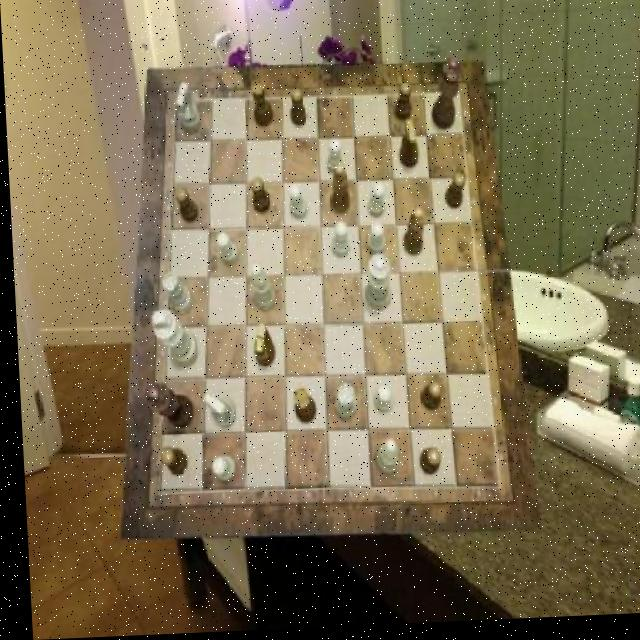bishop: (399, 212, 424, 260), (326, 165, 348, 217)
black-bishop: (139, 383, 188, 430)
black-king: (396, 124, 417, 173), (248, 325, 271, 368)
black-knight: (173, 189, 197, 226), (442, 177, 465, 213), (155, 448, 183, 476), (287, 91, 306, 130), (247, 180, 268, 215), (392, 86, 410, 125), (413, 452, 436, 480), (416, 385, 437, 415)
black-pawn: (428, 61, 463, 134)
black-queen: (249, 81, 272, 130), (287, 388, 312, 427)
black-rook: (248, 265, 273, 312), (370, 442, 394, 477)
white-bishop: (148, 309, 195, 368)
white-king: (174, 84, 200, 134), (199, 394, 232, 431)
white-knight: (213, 233, 236, 267), (286, 185, 305, 222), (327, 224, 346, 260), (364, 186, 383, 221), (206, 457, 230, 484), (324, 141, 342, 177), (365, 227, 383, 260), (369, 389, 389, 417)
white-pawn: (359, 256, 389, 313)
white-queen: (158, 272, 189, 316), (329, 387, 353, 424)
